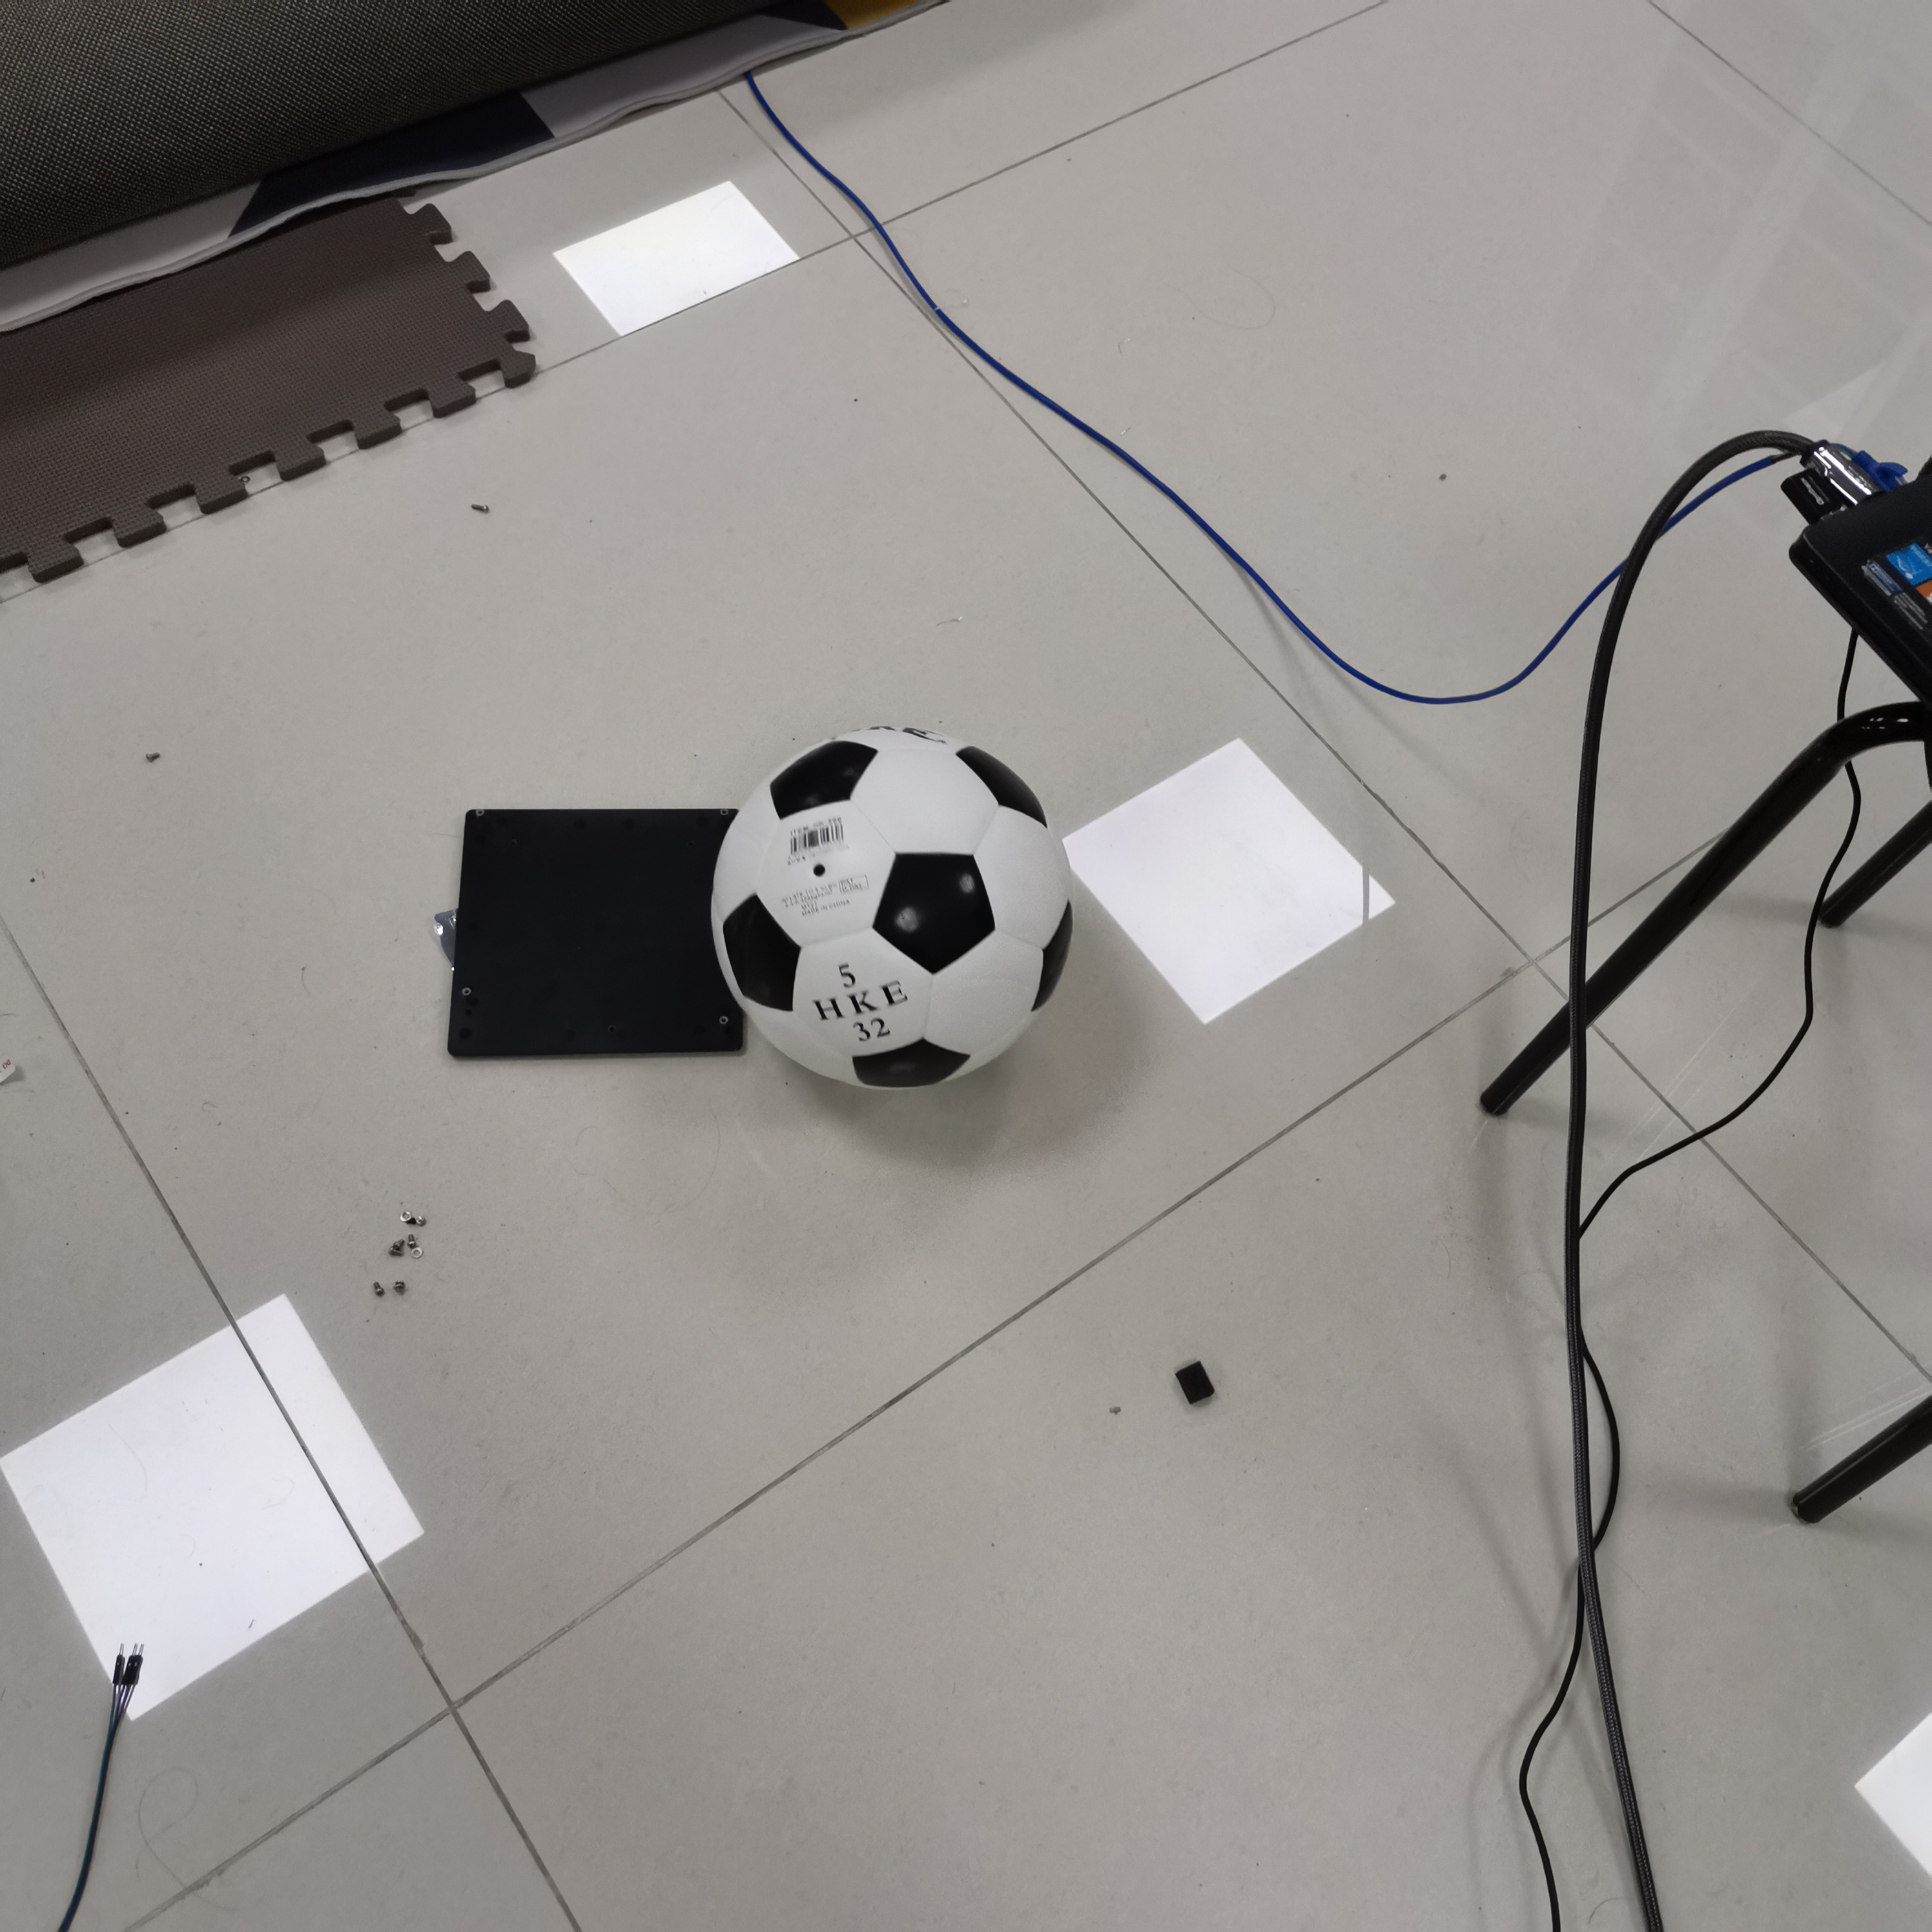football: (706, 727, 1074, 1092)
